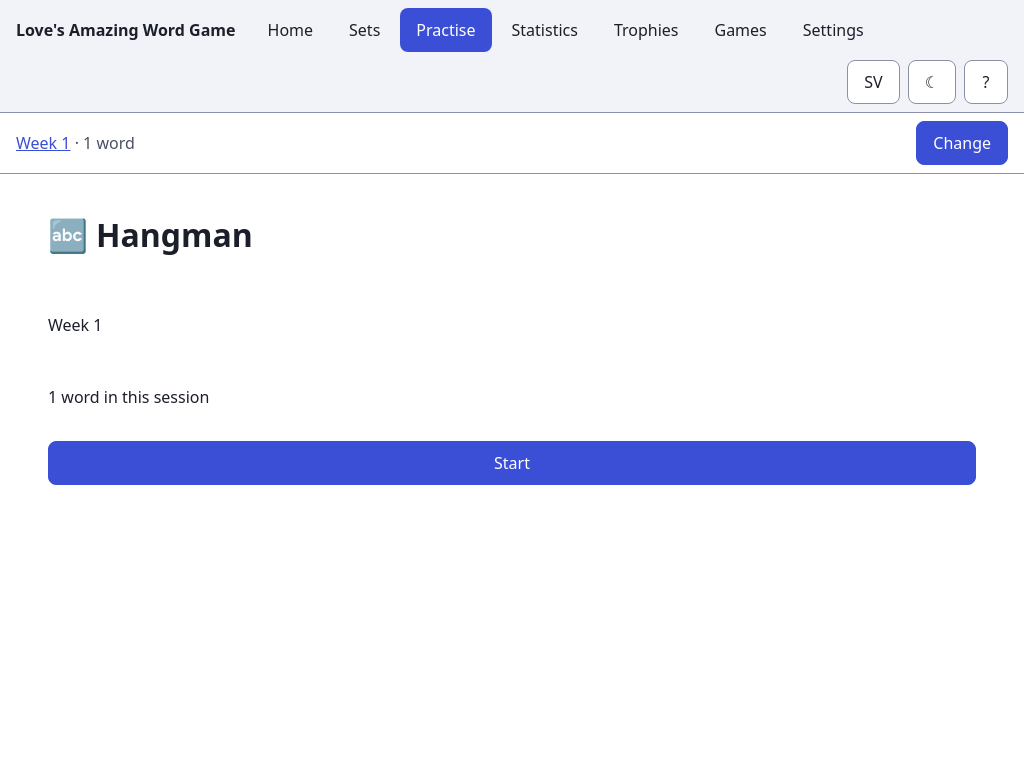
Test: hangman mode › NH-9: guesses with the on-screen keyboard and marks used letters
The image size is (1024, 768).
Click the button "Start" at (512, 463), box [48, 441, 976, 485]
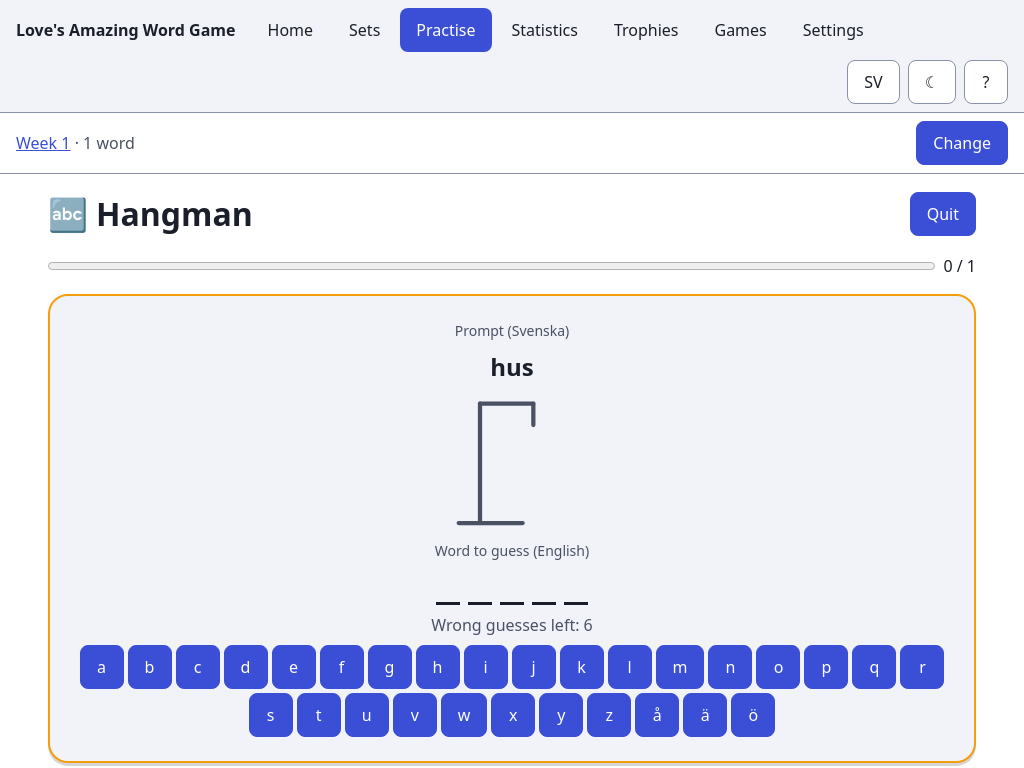
Click the button "o" at (778, 667), box [756, 645, 800, 689]
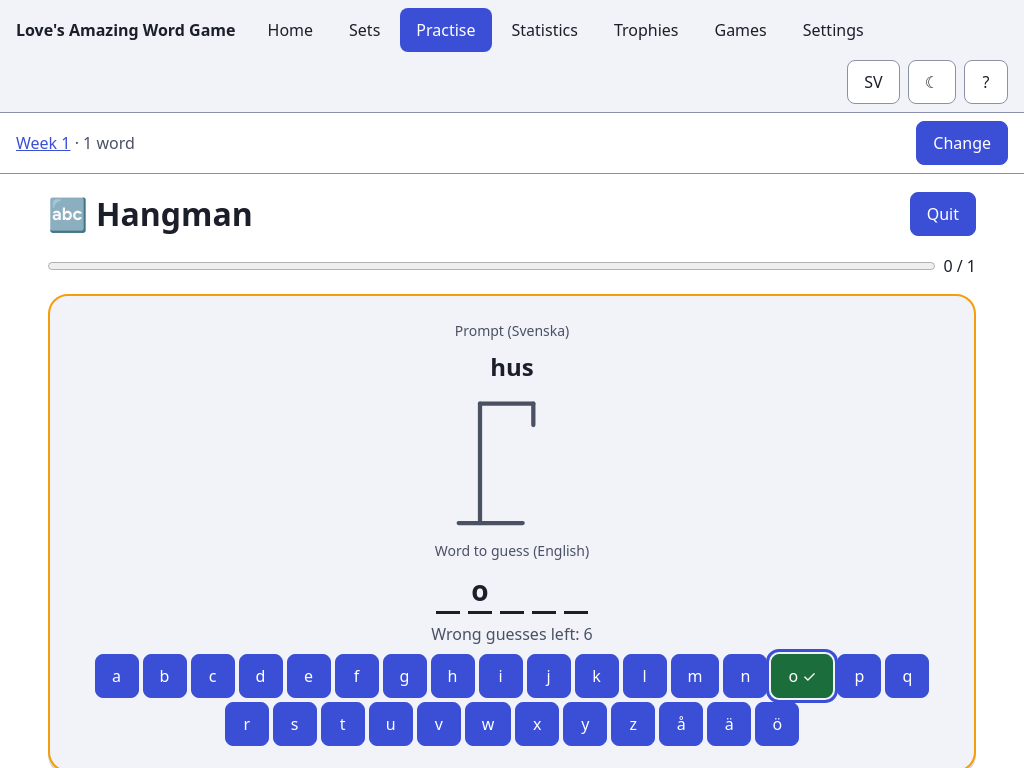
Click the button "z" at (633, 724), box [611, 702, 655, 746]
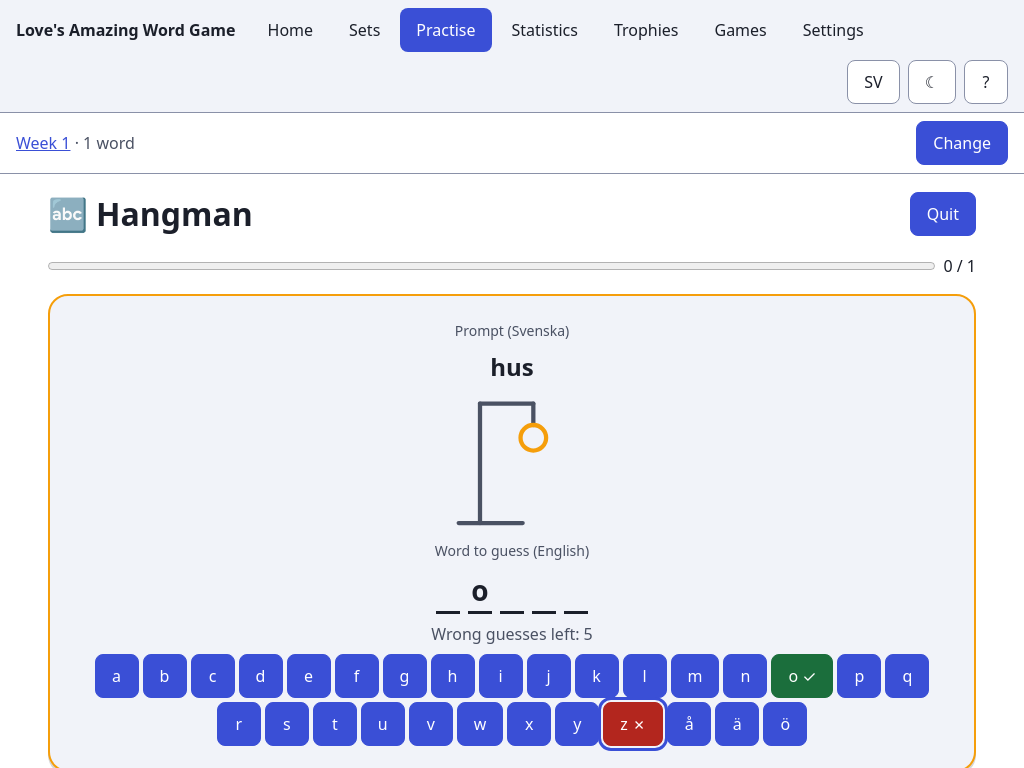
Now the picture named "Word: _o___" is shown, box [436, 569, 588, 614]
Now the text "Wrong guesses left: 5" is shown, box [431, 622, 593, 646]
